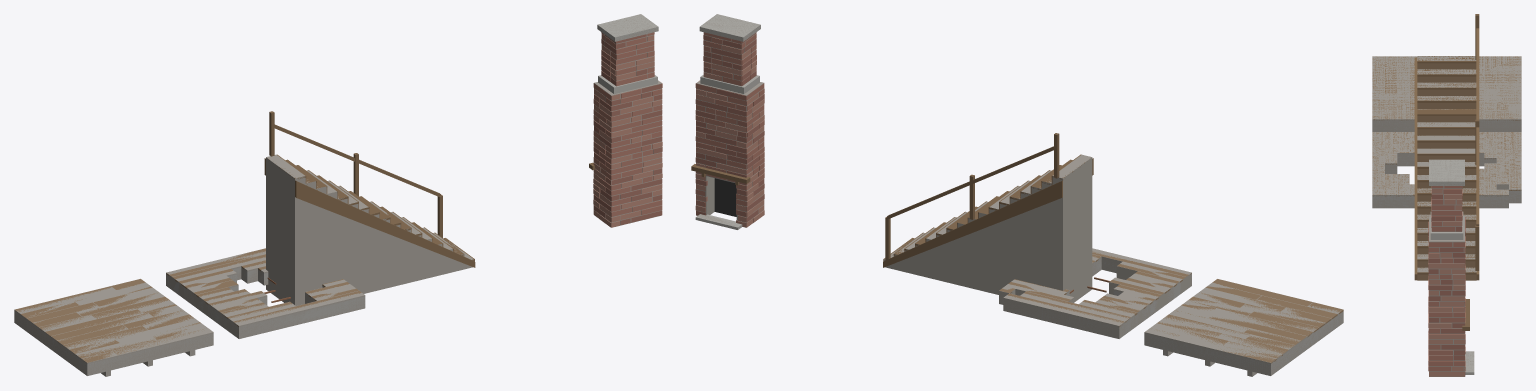
File: kit_2.glb
The picture shows the model from 3 angles, left to right: view 1: azimuth 30°, elevation 25°; view 2: azimuth 150°, elevation 25°; view 3: azimuth 270°, elevation 25°; orthographic projection. The views are drawn at different scales.
Parts seen in each view (by area): view 1: COL_stairs_wood, chimney_brick, COL_floor_slab, floor_slab, COL_floor_slab_broken, floor_slab_broken, stairs_wood, COL_chimney_brick; view 2: COL_stairs_wood, chimney_brick, COL_floor_slab, floor_slab, COL_floor_slab_broken, stairs_wood, floor_slab_broken, COL_chimney_brick; view 3: stairs_wood, chimney_brick, COL_floor_slab, COL_floor_slab_broken, COL_stairs_wood, floor_slab, floor_slab_broken, COL_chimney_brick.
Boxes of the visible parts, <box> form: COL_stairs_wood: <box>266,154,473,305</box>; chimney_brick: <box>589,14,662,227</box>; COL_floor_slab: <box>14,278,213,376</box>; floor_slab: <box>14,279,213,376</box>; COL_floor_slab_broken: <box>166,248,365,338</box>; floor_slab_broken: <box>166,248,365,338</box>; stairs_wood: <box>264,111,475,267</box>; COL_chimney_brick: <box>594,14,661,226</box>; COL_stairs_wood: <box>884,154,1092,302</box>; chimney_brick: <box>691,14,764,229</box>; COL_floor_slab: <box>1144,280,1343,376</box>; floor_slab: <box>1144,279,1343,375</box>; COL_floor_slab_broken: <box>999,248,1191,338</box>; stairs_wood: <box>883,133,1093,267</box>; floor_slab_broken: <box>999,251,1191,338</box>; COL_chimney_brick: <box>696,14,764,229</box>; stairs_wood: <box>1414,14,1479,280</box>; chimney_brick: <box>1428,159,1474,376</box>; COL_floor_slab: <box>1372,56,1521,131</box>; COL_floor_slab_broken: <box>1372,132,1521,208</box>; COL_stairs_wood: <box>1417,56,1476,272</box>; floor_slab: <box>1372,56,1521,131</box>; floor_slab_broken: <box>1372,132,1521,208</box>; COL_chimney_brick: <box>1429,159,1474,376</box>.
Bounding box in the file's own units: 14.36 × 4.3 × 3.
